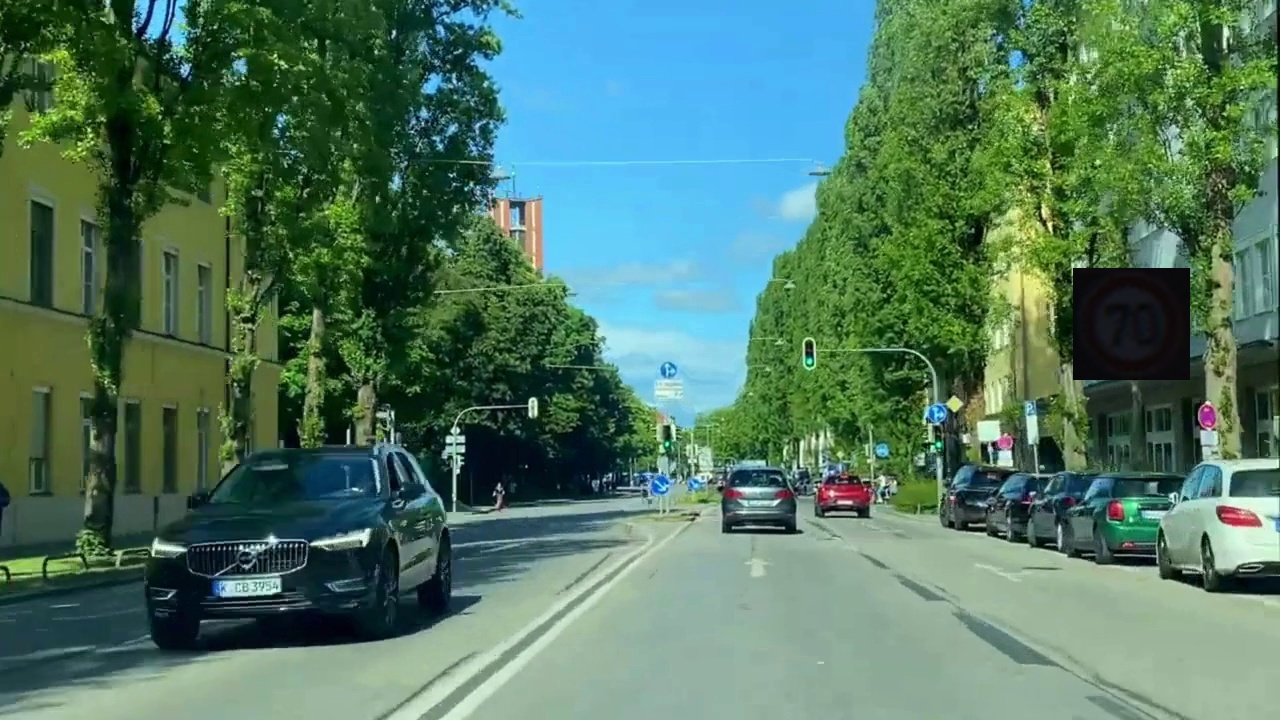Speed 70: (1073, 268, 1190, 380)
